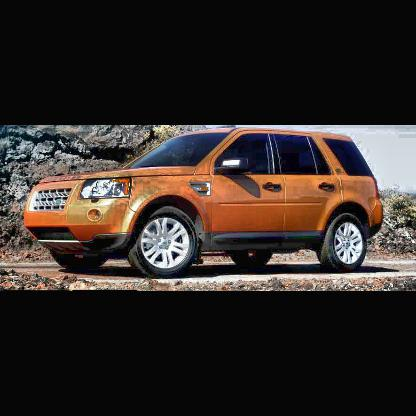Land Rover LR2 SUV 2012: (24, 127, 388, 272)
